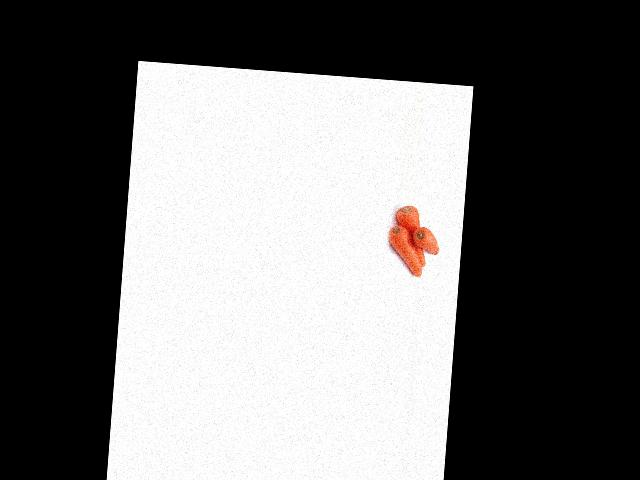carrot: (390, 203, 430, 274)
